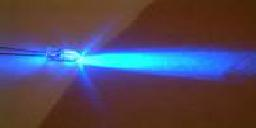LED: (2, 44, 93, 69)
